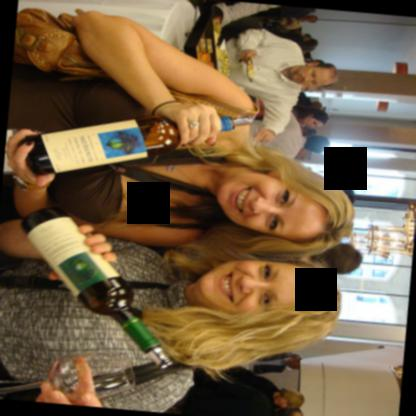handbag: (12, 5, 259, 123)
